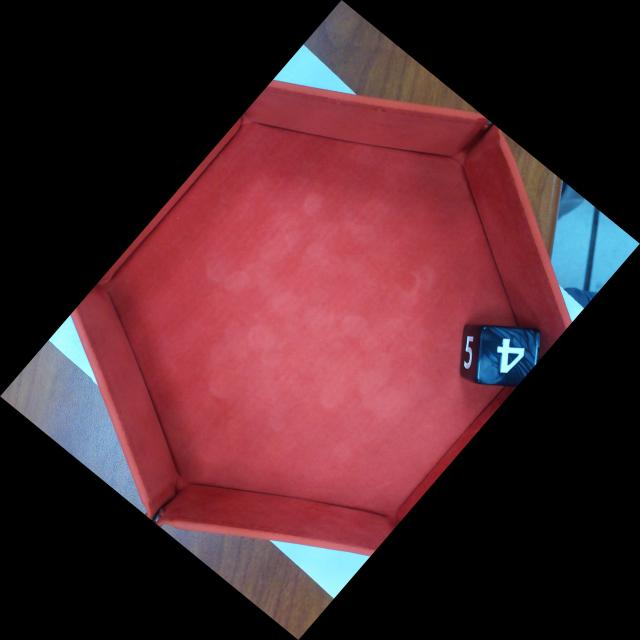dice: (474, 324, 544, 392)
